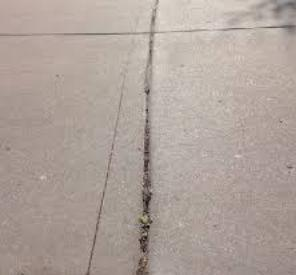crack: (135, 0, 160, 275), (83, 112, 118, 275), (0, 22, 296, 38), (111, 41, 132, 128)
